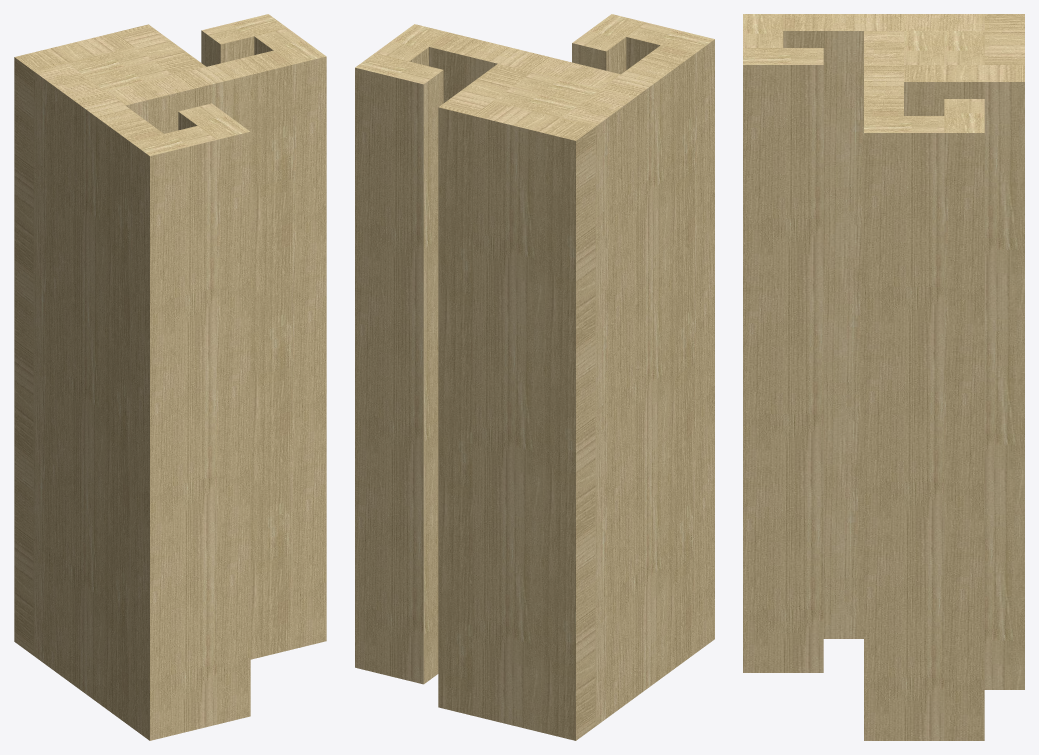
3 renders of one model, left to right at view 1: azimuth 30°, elevation 25°; view 2: azimuth 150°, elevation 25°; view 3: azimuth 270°, elevation 25°, orthographic. The views are drawn at different scales.
Visible parts, largest first — view 1: Geom3D (×10); view 2: Geom3D (×10); view 3: Geom3D (×10).
Boxes of the visible parts, <box> form: Geom3D (×10): <box>14,14,326,740</box>; Geom3D (×10): <box>355,14,714,740</box>; Geom3D (×10): <box>743,14,1024,740</box>.
Bounding box in the file's own units: 0.126 × 0.3 × 0.126.
1 material, 1 textured.
